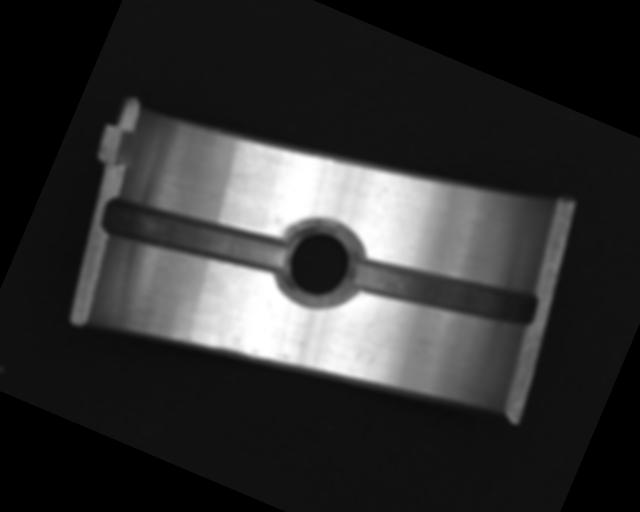gap: (347, 226, 540, 357), (98, 172, 293, 301)
hole: (269, 213, 371, 319)
